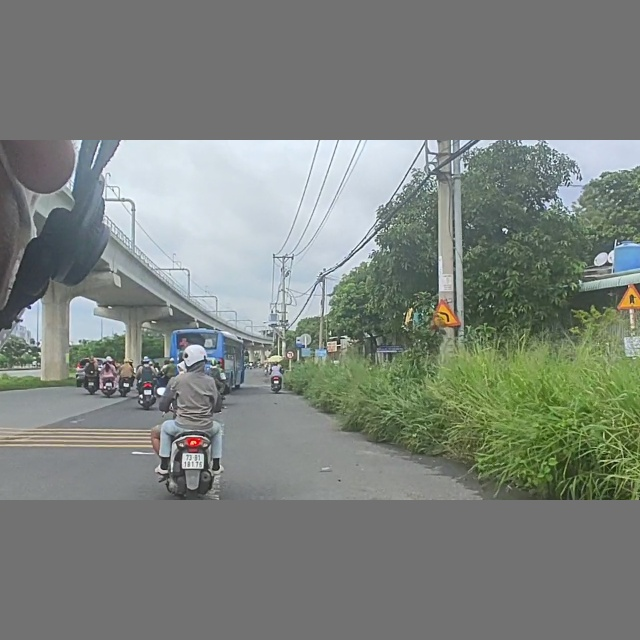I.434a: (295, 335, 305, 348)
P.123a: (286, 350, 295, 360)
W.201a: (429, 299, 462, 329)
W.207: (617, 283, 640, 309)
